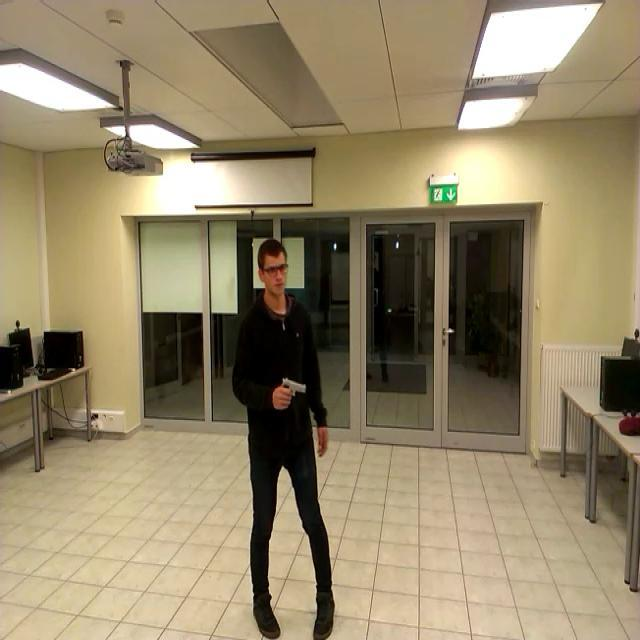Gun: (276, 370, 315, 412)
